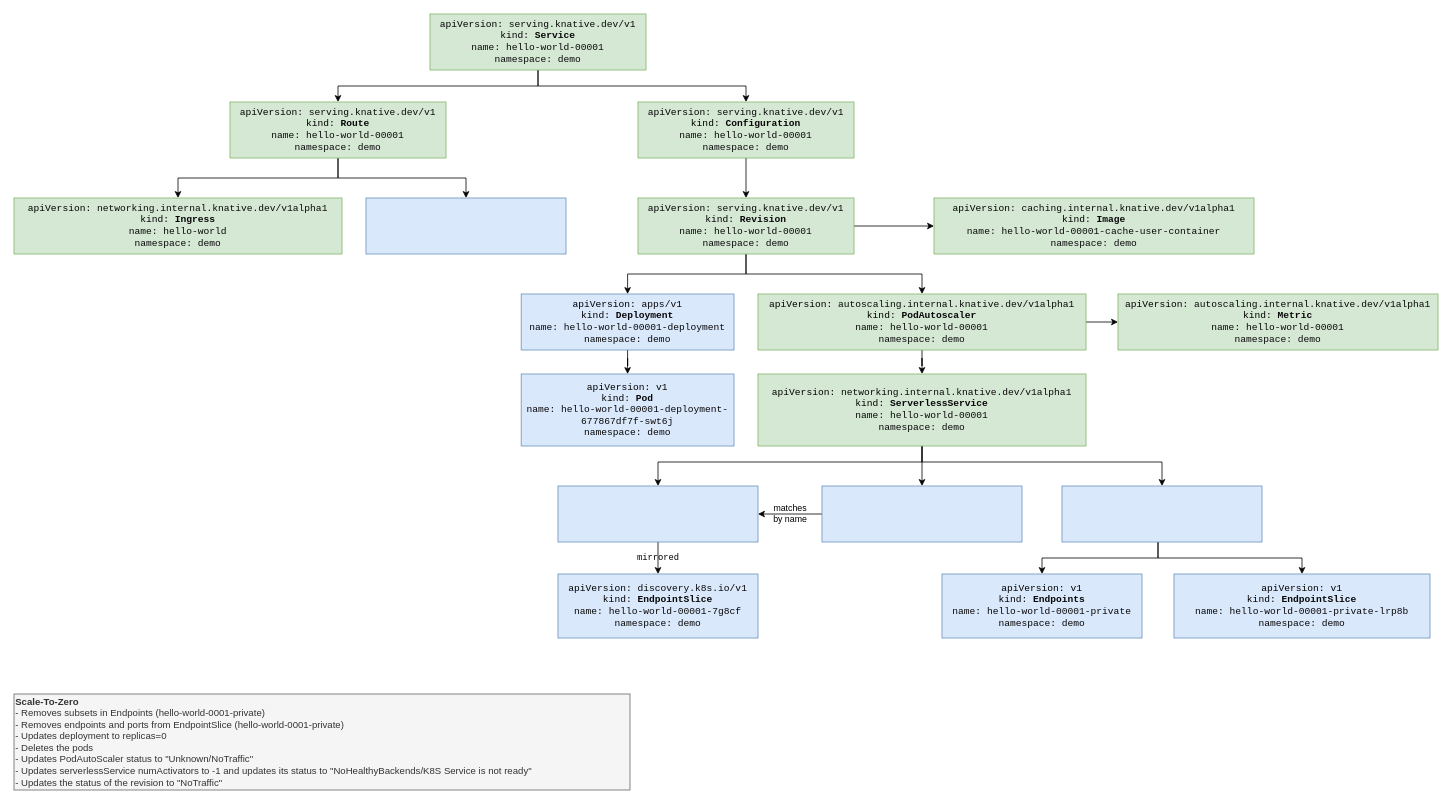
Some shapes in this 1452 by 804 pixel diagram are drawn without their labels. The centre of each missing label's shape, as x and y in pixels:
"apiVersion: v1 kind: Endpoints name: hello-world-00001 namespace: demo" goes at (657,513).
"apiVersion: v1 kind: Service name: hello-world namespace: demo" goes at (465,225).
"apiVersion: v1 kind: Service name: hello-world-00001 namespace: demo" goes at (921,513).
"apiVersion: v1 kind: Service name: hello-world-00001-private namespace: demo" goes at (1161,513).
